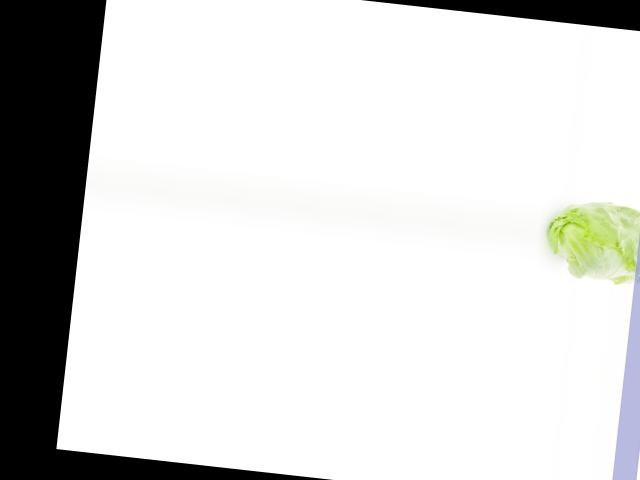lettuce: (536, 198, 640, 289)
